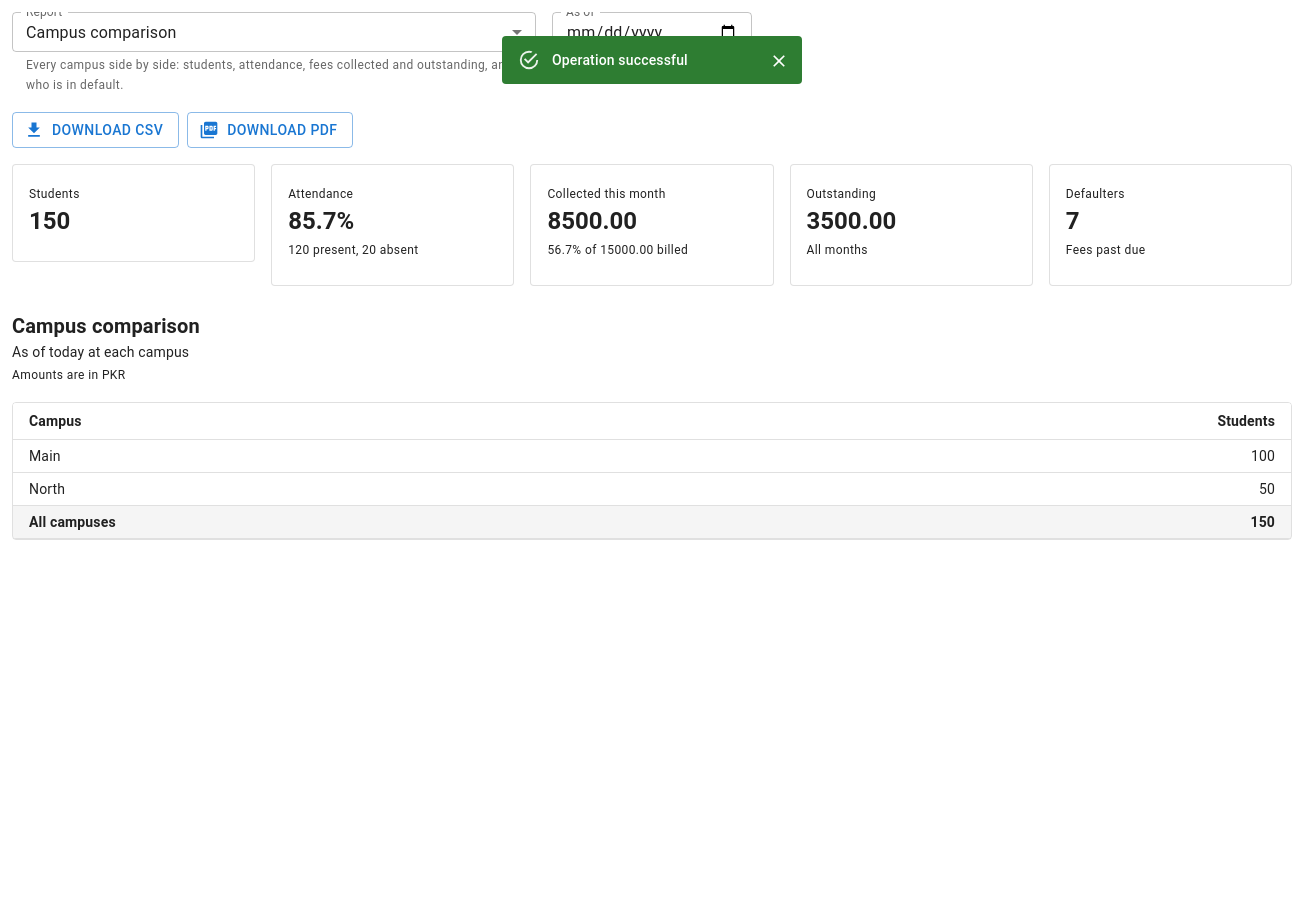
Test: ReportsManager › offers only the institution's classes for the register in the platform console
The width and height of the screenshot is (1304, 912).
Expected: the heading "Campus comparison" is shown, [12, 314, 200, 338]
Step 1. Click the dropdown named "Report" → (101, 32), box [26, 22, 176, 42]
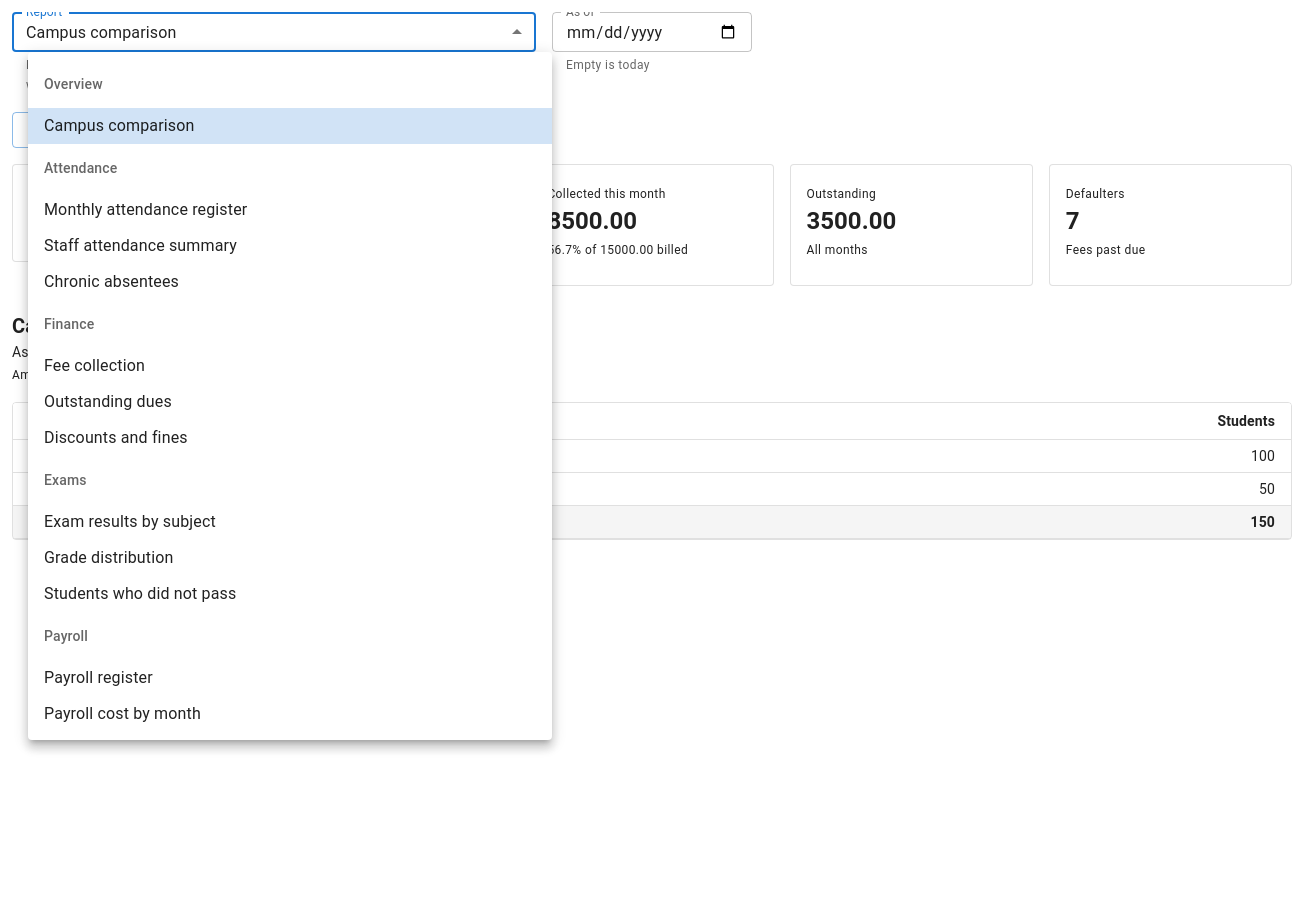
Step 2. Click the option "Monthly attendance register" → (146, 210), box [44, 200, 247, 219]
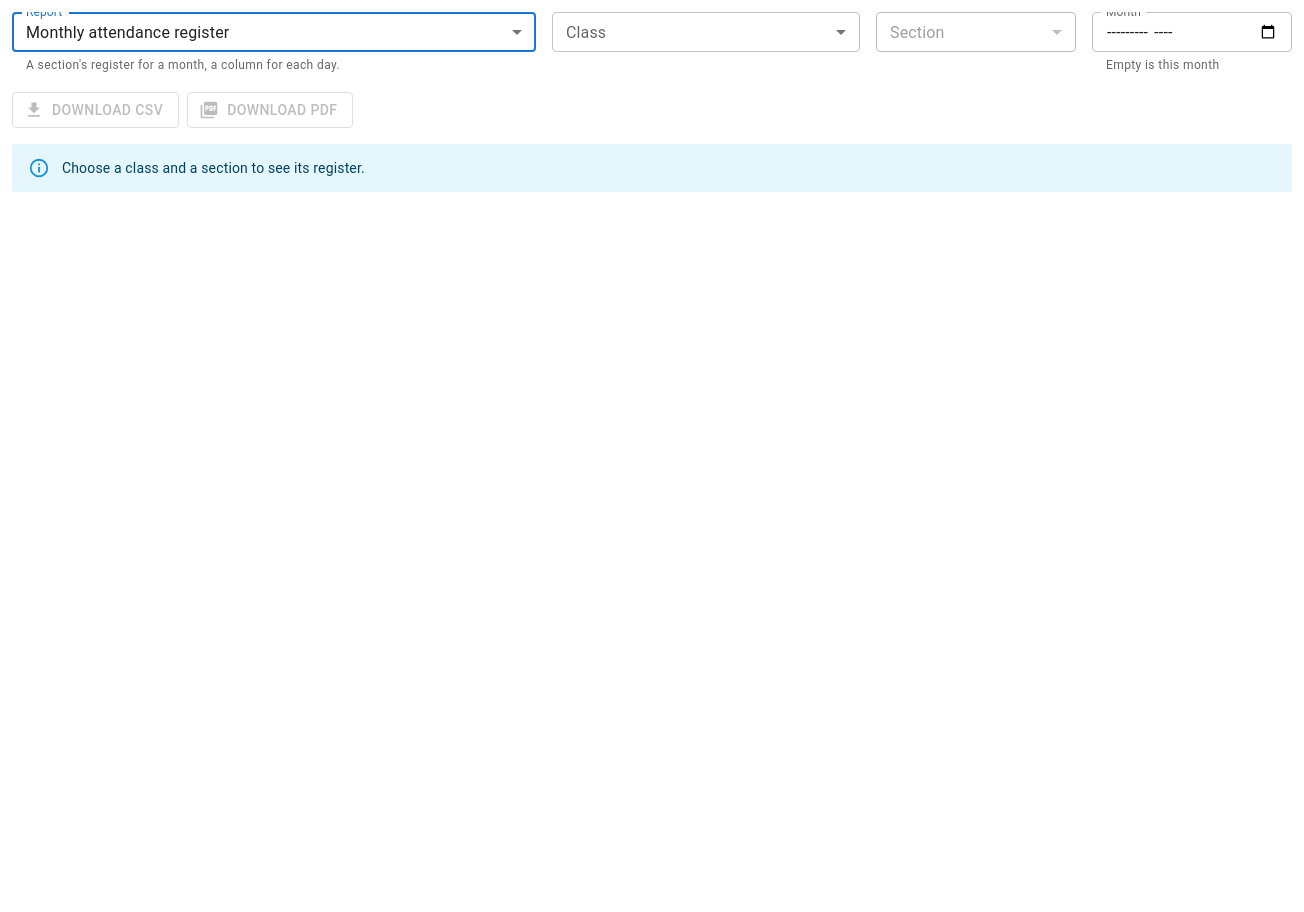
Step 3. Click the 1st dropdown named "Class" → (706, 32), box [552, 12, 860, 52]
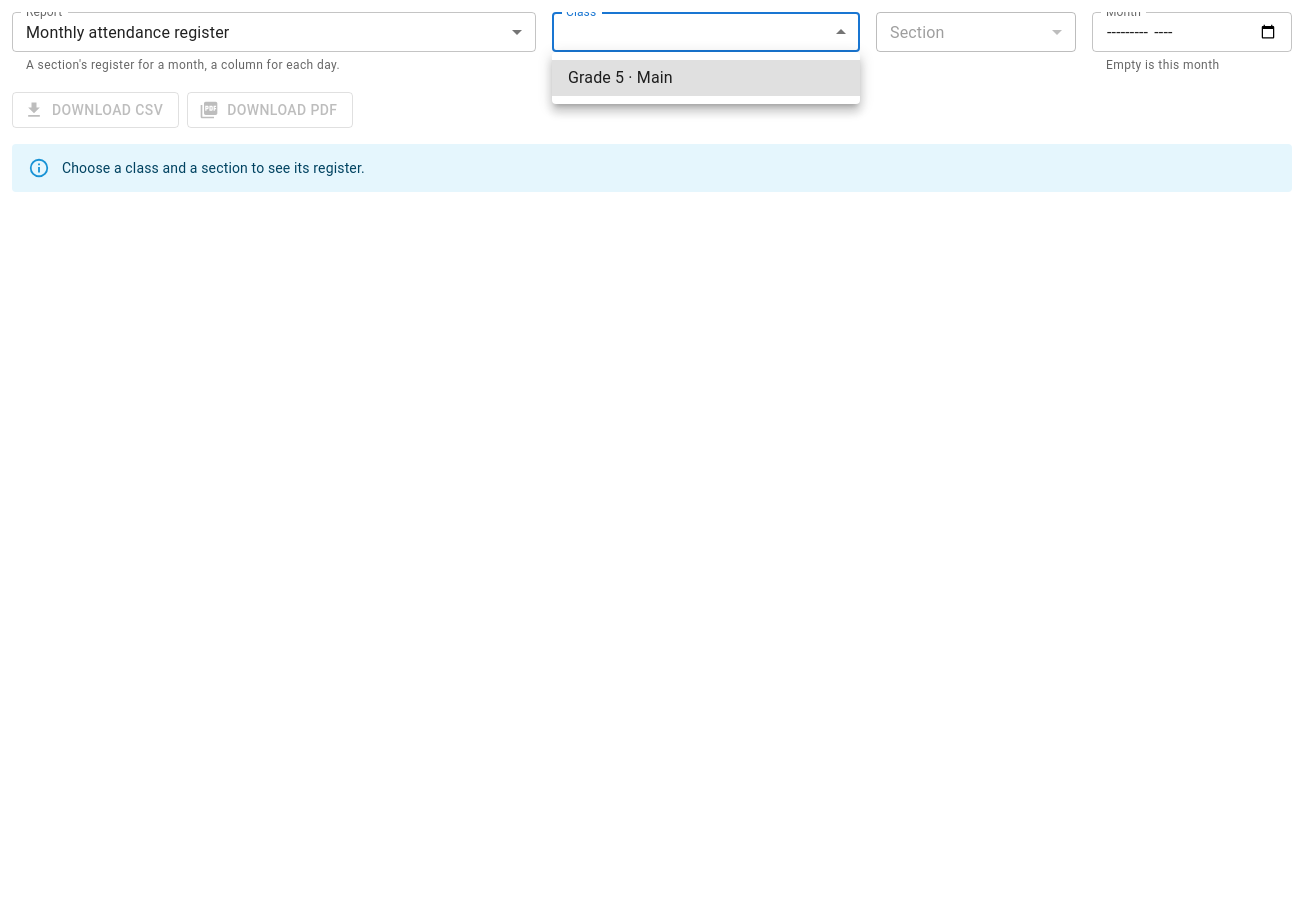
Expected: the option "Grade 5 · Main" is shown, [552, 60, 860, 96]
